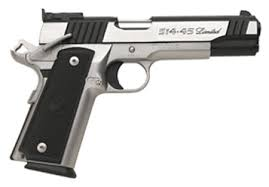gun: (6, 5, 269, 183)
